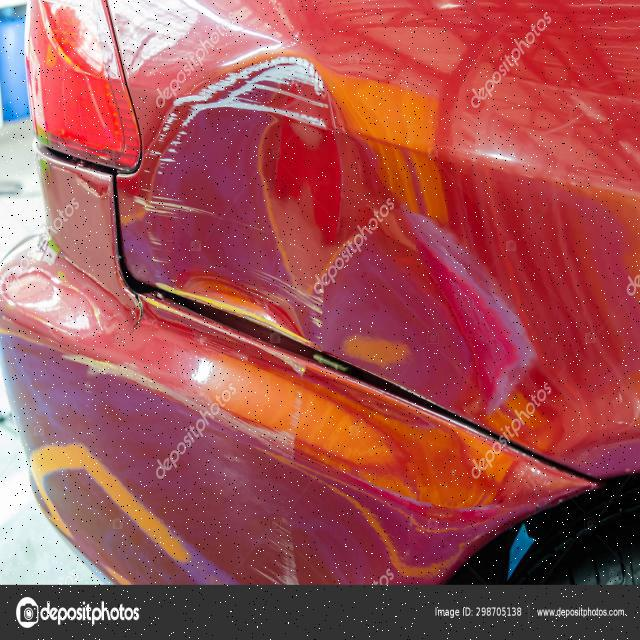quaterpanel-dent: (85, 3, 636, 440)
